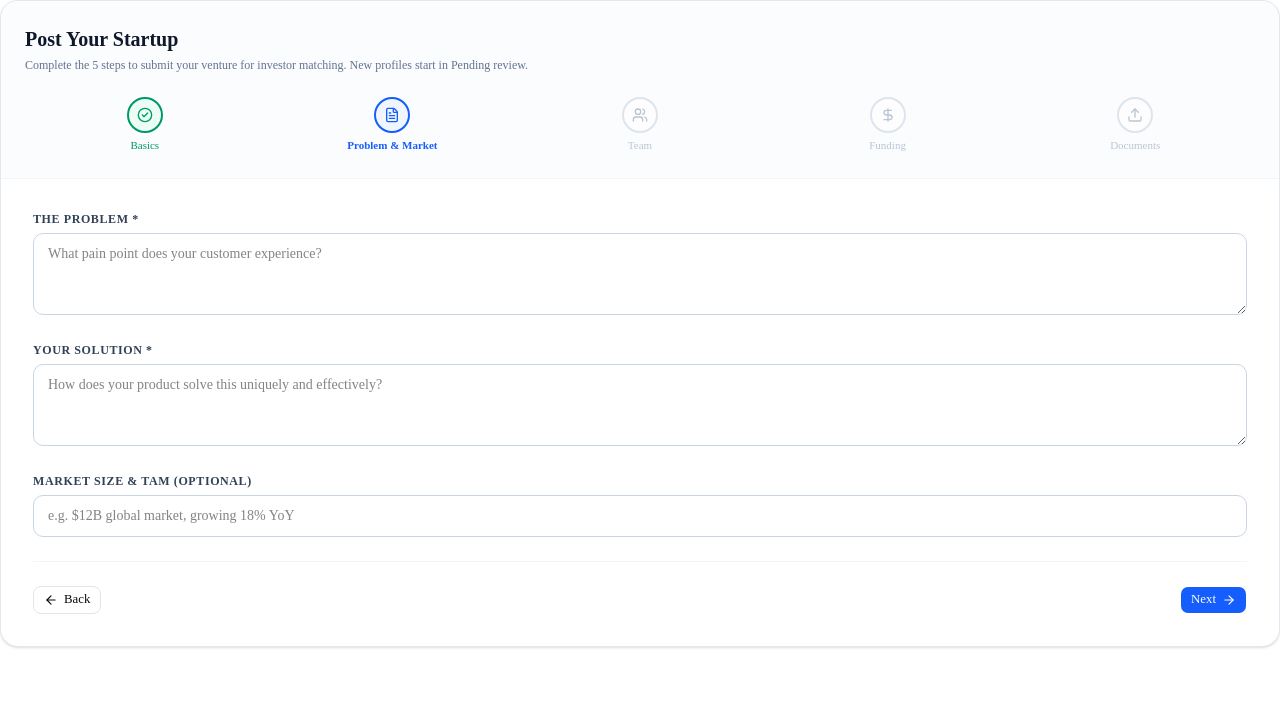
Test: Founder Module Component Tests › 2. StartupForm Multi-Step Flow › validates Step 1 and allows navigating through all 5 steps to submission
Earlier steps of the test are not shown.
Type "Quantum computers will crack modern RSA encryption" into the text box with placeholder "What pain point does your customer experience?" at (640, 274), box [33,232,1247,314]
Type "Lattice-based post-quantum cryptography API" into the text box with placeholder "How does your product solve this uniquely and effectively?" at (640, 404), box [33,364,1247,446]
Click the button "Next" at (1214, 600), box [1180,586,1247,614]
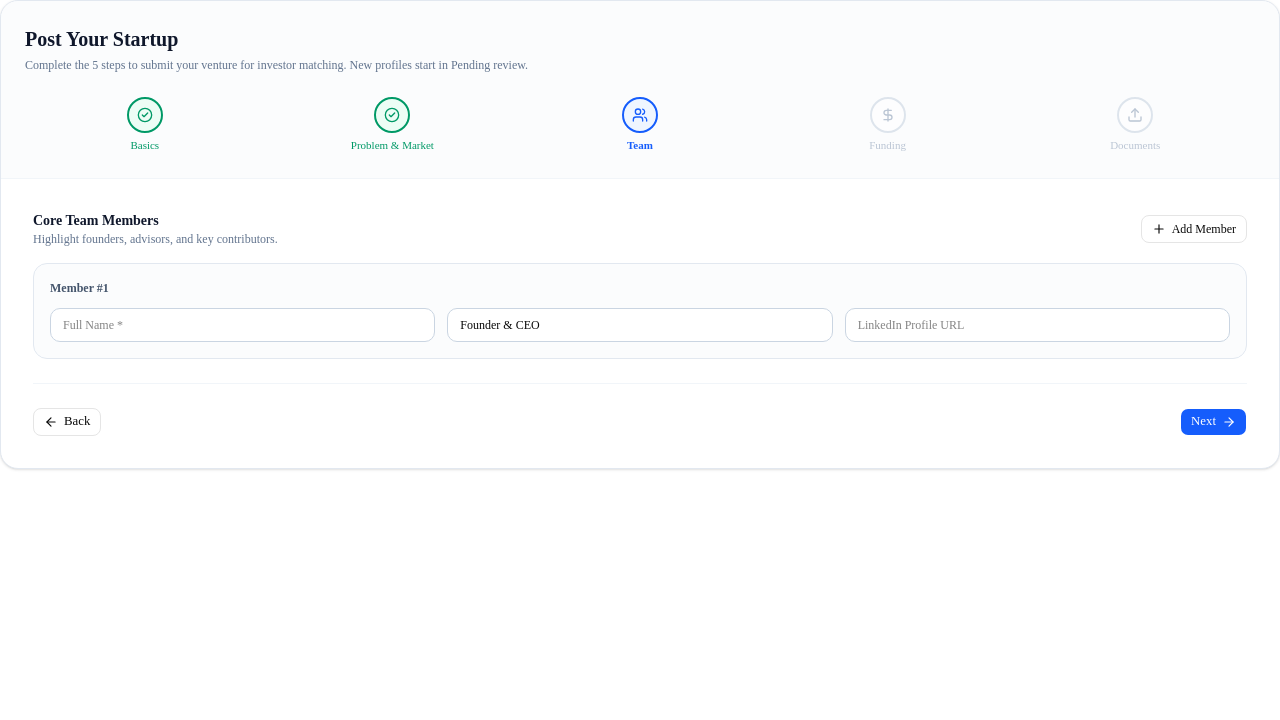
Expected: the heading "Core Team Members" is shown, [33,212,159,228]
Type "Dr. Jane Doe" into the field with placeholder "Full Name *" at (243, 324), box [50,308,435,342]
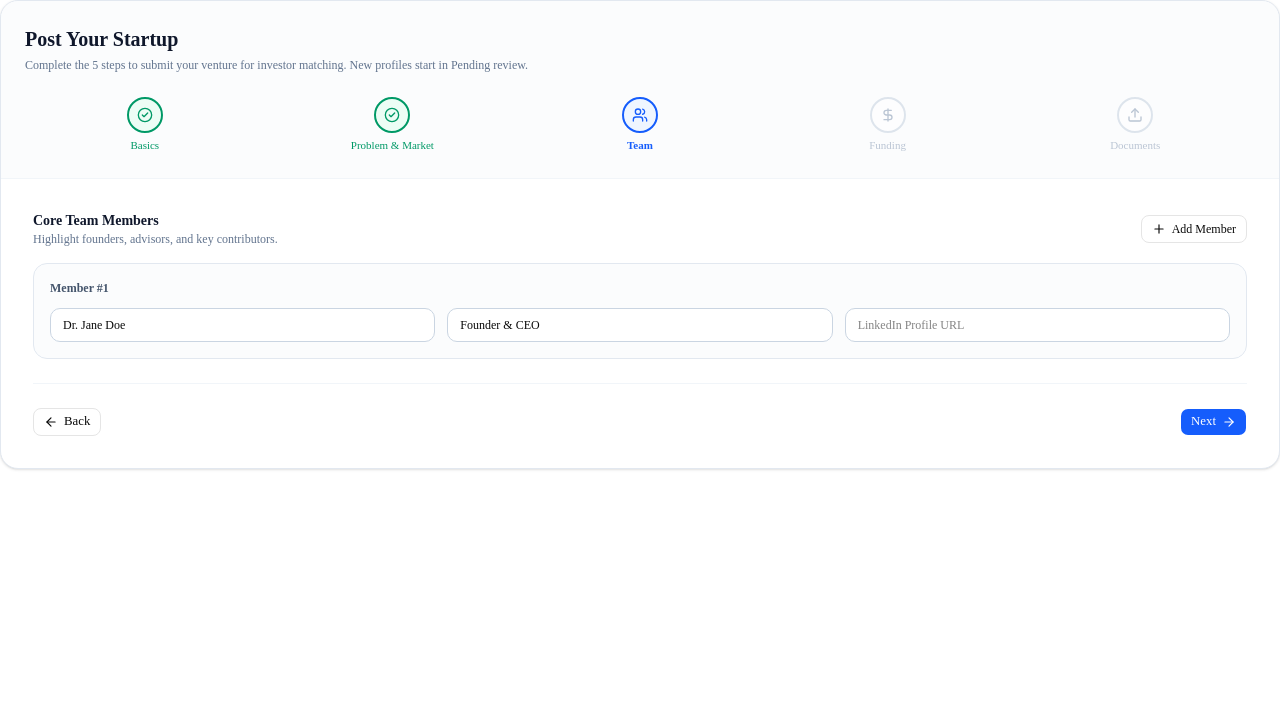
Click the button "Next" at (1214, 422), box [1180,408,1247,436]
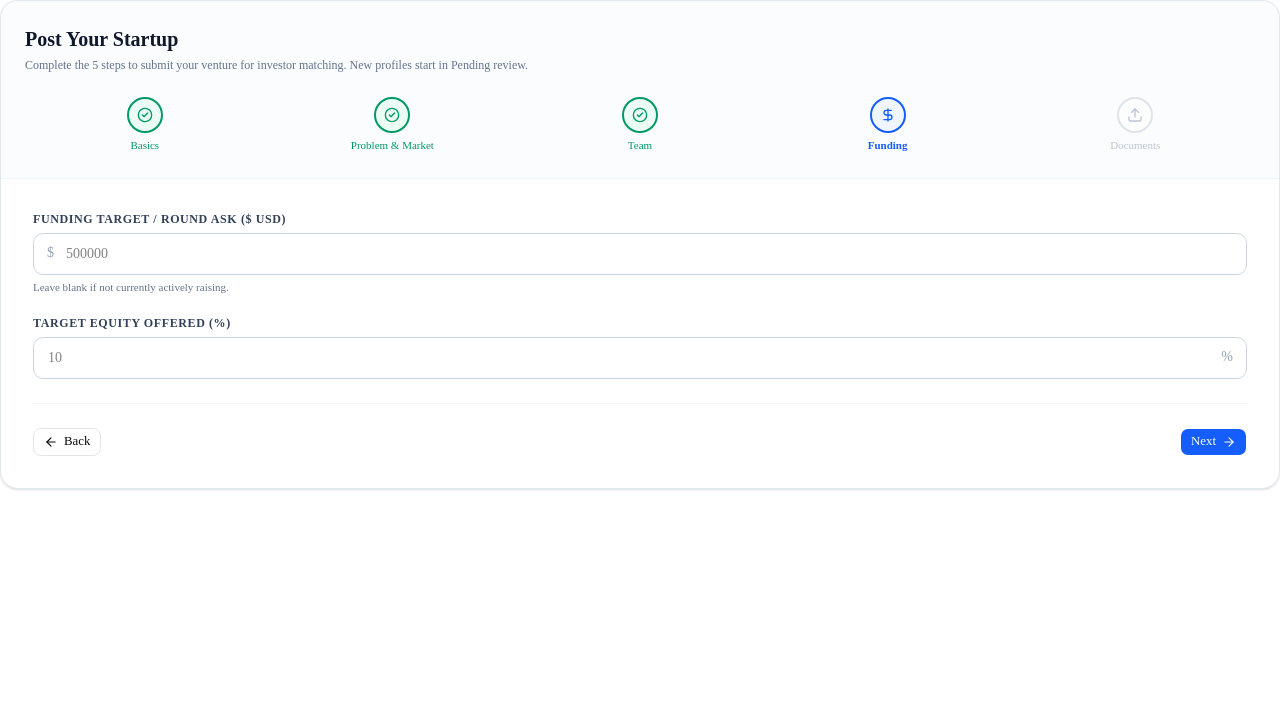
Expected: the number field with placeholder "500000" is shown
Type "750000" into the number field with placeholder "500000" at (640, 254), box [33,232,1247,274]
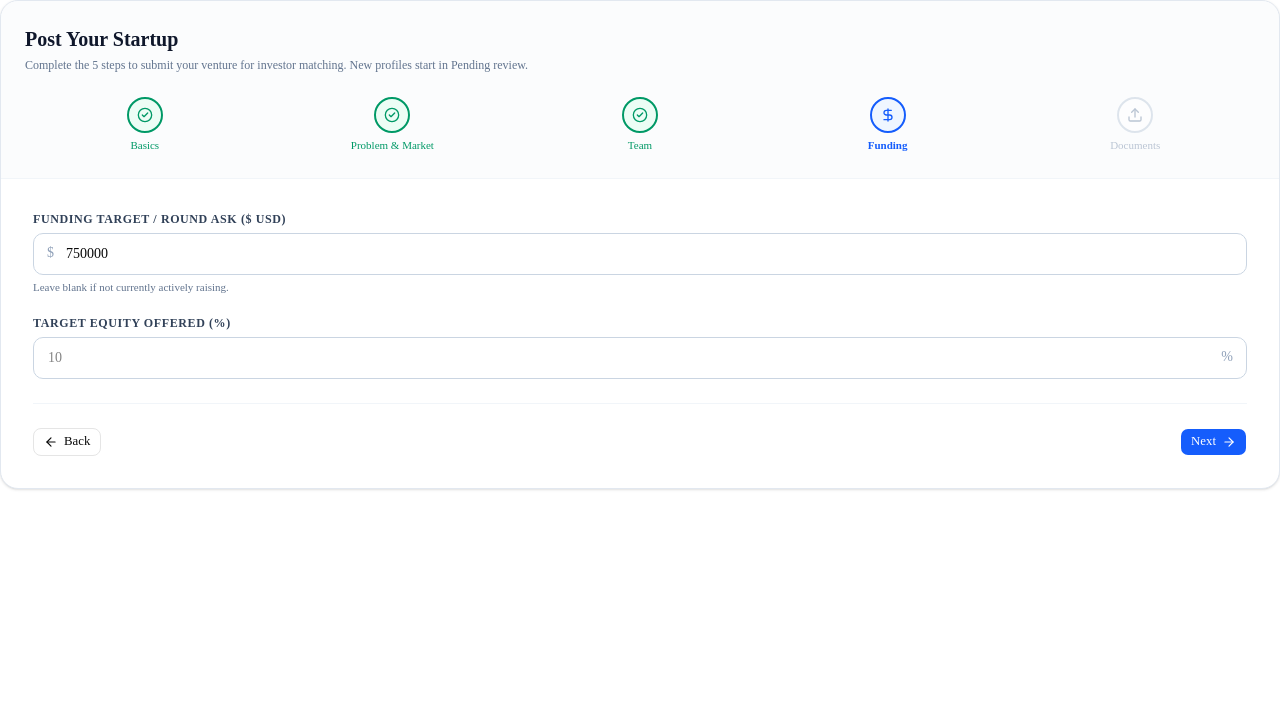
Type "12" into the number field with placeholder "10" at (640, 358), box [33,337,1247,379]
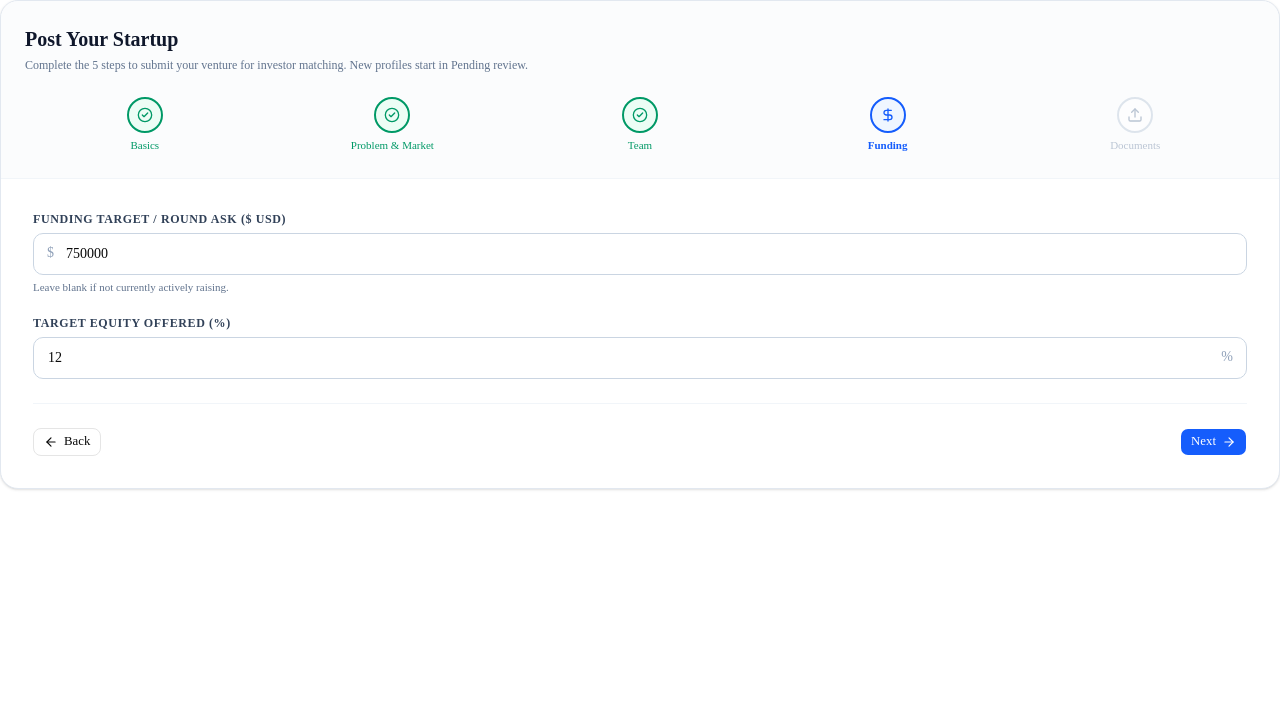
Click the button "Next" at (1214, 442), box [1180,428,1247,456]
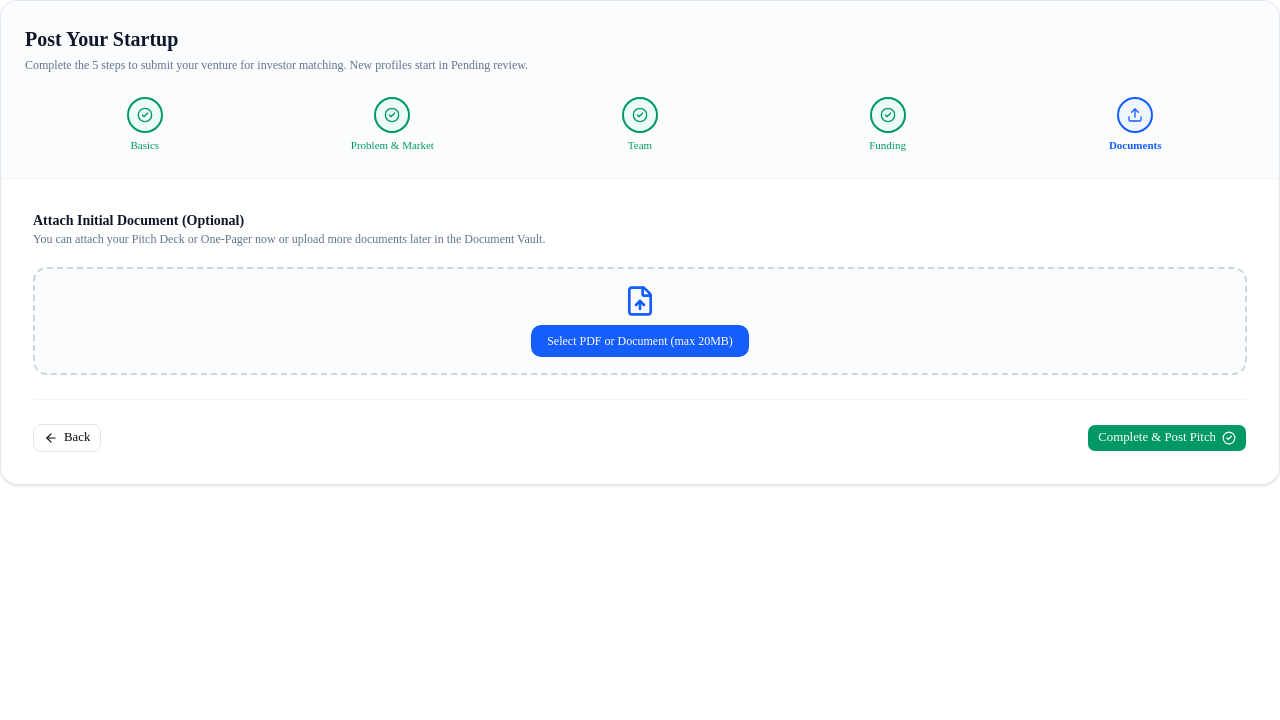
Expected: the heading "Attach Initial Document (Optional)" is shown, [33,212,244,228]
